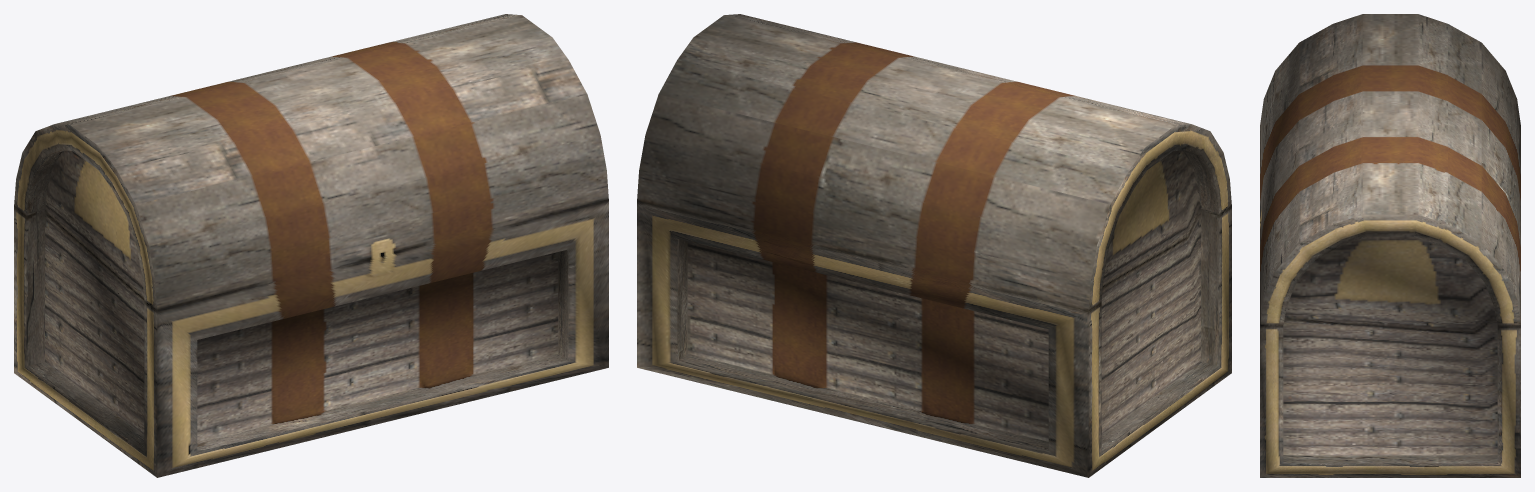
Rendered from chest.fbx.
3 views of the same model, side by side, from view 1: azimuth 30°, elevation 25°; view 2: azimuth 150°, elevation 25°; view 3: azimuth 270°, elevation 25° (orthographic). The views are drawn at different scales.
Parts seen in each view (by area): view 1: chestlow; view 2: chestlow; view 3: chestlow.
Part boxes in pixels (x1=…): chestlow: x1=14, y1=14, x2=608, y2=477; chestlow: x1=637, y1=14, x2=1231, y2=477; chestlow: x1=1260, y1=14, x2=1520, y2=477.
Bounding box in the file's own units: 0.8281 × 0.4548 × 0.5062.
Materials: 1 (1 with a texture image).
